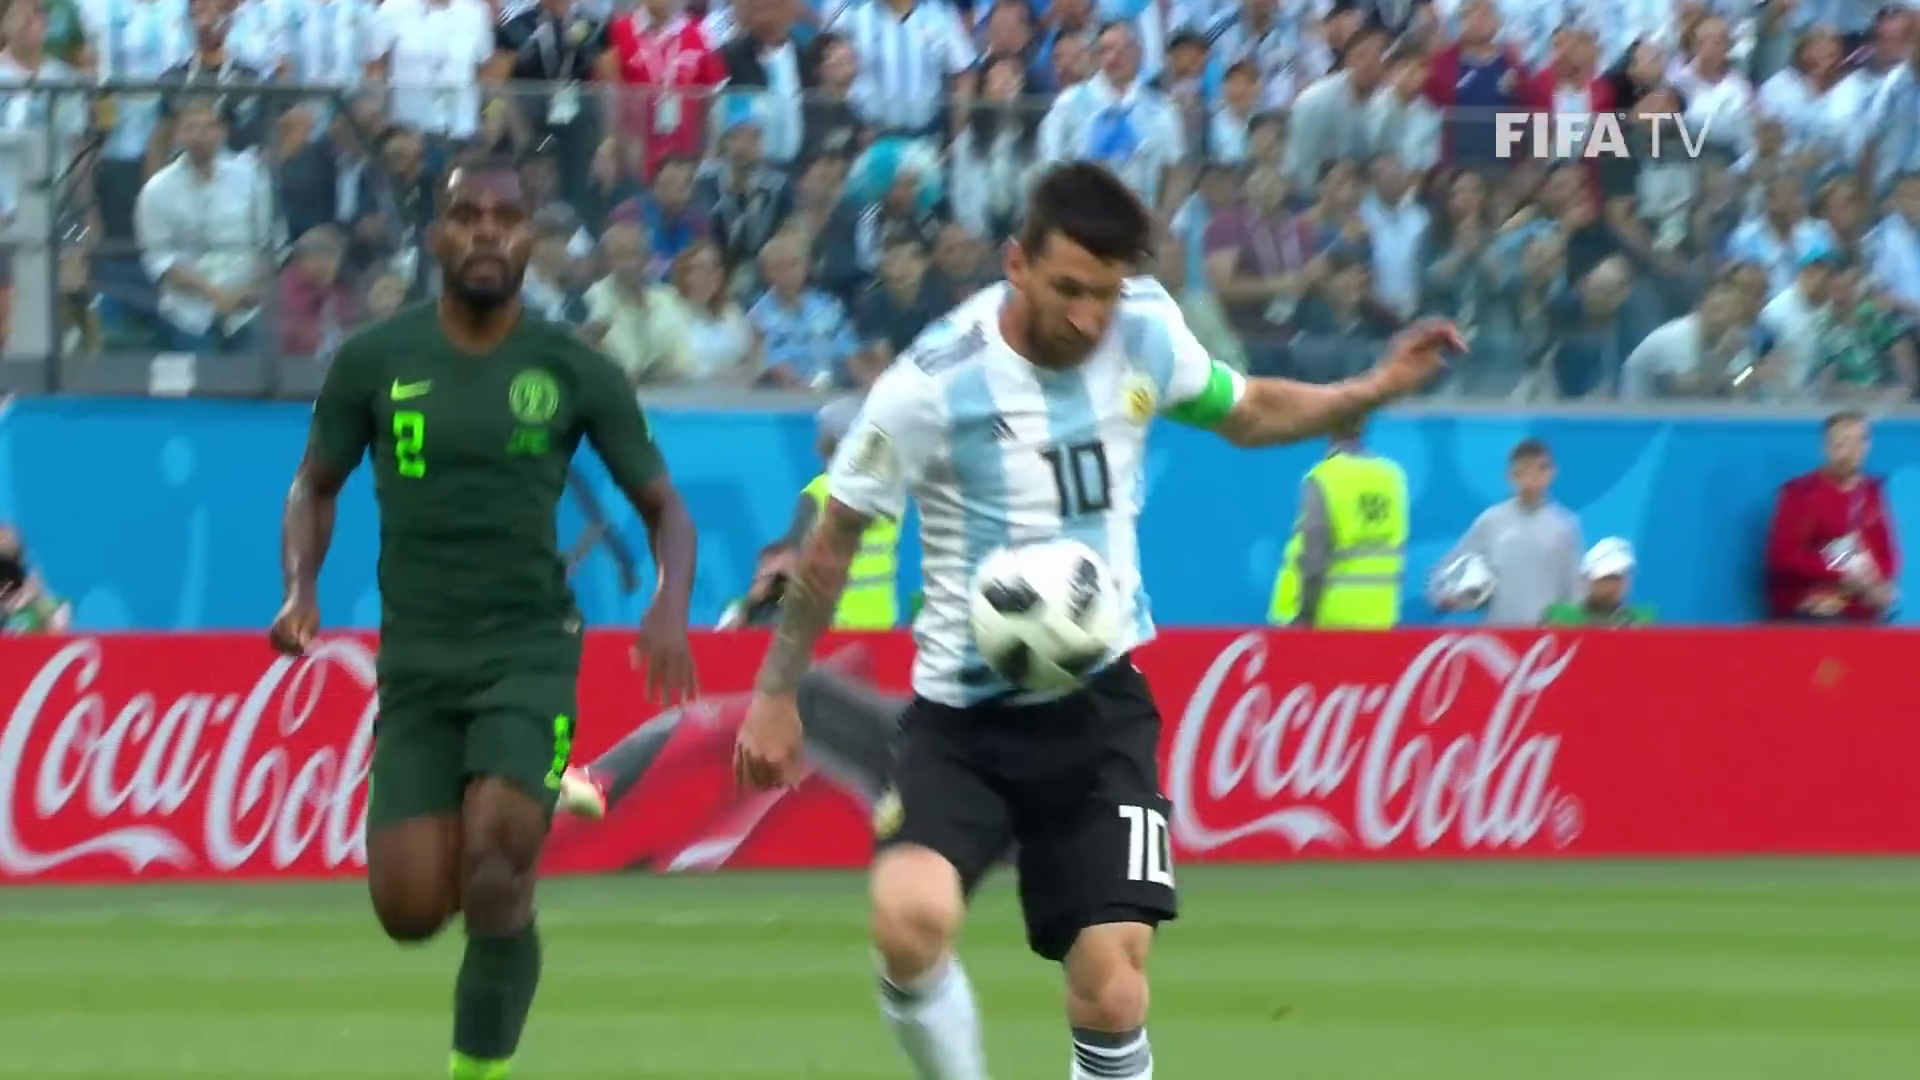ball: (973, 541, 1122, 684)
person: (736, 161, 1456, 1080), (267, 161, 694, 1080)
